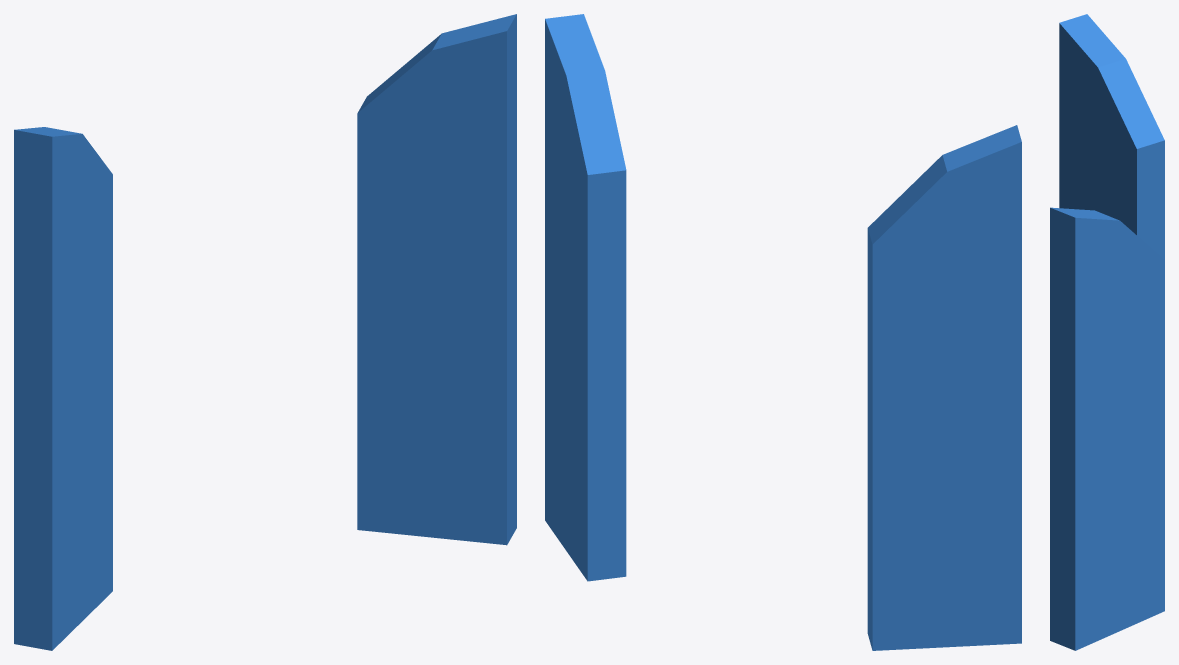
Rendered from Collision_WindowShutters_Thin_Round_Open.fbx.
The picture shows the model from 3 angles, left to right: view 1: azimuth 30°, elevation 25°; view 2: azimuth 150°, elevation 25°; view 3: azimuth 270°, elevation 25°; orthographic projection. The views are drawn at different scales.
Visible parts, largest first — view 1: UCX_WindowShutters_Thin_Round_Open_1; view 2: UCX_WindowShutters_Thin_Round_Open_1; view 3: UCX_WindowShutters_Thin_Round_Open_1.
Part boxes in pixels (left/top/right/bottom): UCX_WindowShutters_Thin_Round_Open_1: left=14, top=14, right=516, bottom=650; UCX_WindowShutters_Thin_Round_Open_1: left=545, top=14, right=1021, bottom=650; UCX_WindowShutters_Thin_Round_Open_1: left=1050, top=14, right=1164, bottom=650.
Bounding box in the file's own units: 160 × 158 × 38.02.
